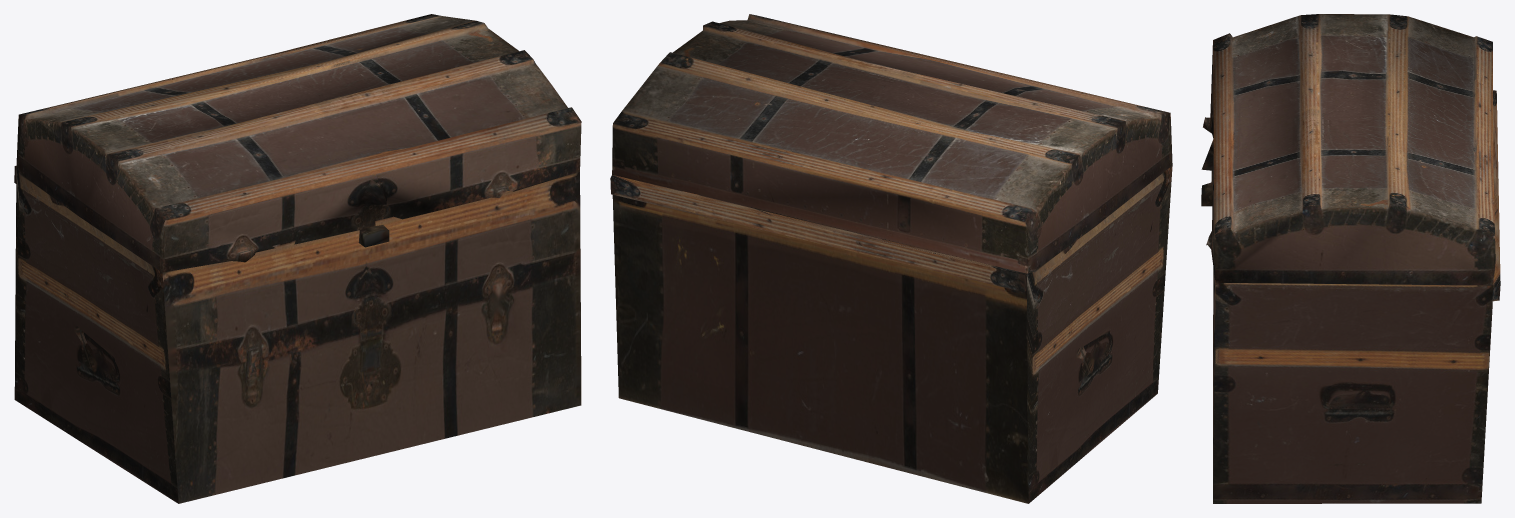
Rendered from chest.fbx.
3 views of the same model, side by side, from view 1: azimuth 30°, elevation 25°; view 2: azimuth 150°, elevation 25°; view 3: azimuth 270°, elevation 25° (orthographic). The views are drawn at different scales.
Parts seen in each view (by area): view 1: vigiaeoga_LOD0_TIER3_000, vigiaeoga_LOD0_TIER3_000.001; view 2: vigiaeoga_LOD0_TIER3_000, vigiaeoga_LOD0_TIER3_000.001; view 3: vigiaeoga_LOD0_TIER3_000.001, vigiaeoga_LOD0_TIER3_000.
Boxes of the visible parts, box(x1,y1,x2,y2) form: vigiaeoga_LOD0_TIER3_000: box(14, 166, 581, 503); vigiaeoga_LOD0_TIER3_000.001: box(16, 14, 581, 272); vigiaeoga_LOD0_TIER3_000: box(610, 165, 1172, 503); vigiaeoga_LOD0_TIER3_000.001: box(612, 14, 1172, 273); vigiaeoga_LOD0_TIER3_000.001: box(1201, 14, 1495, 285); vigiaeoga_LOD0_TIER3_000: box(1201, 90, 1500, 503).
Bounding box in the file's own units: 67.6 × 48.33 × 43.77.
Materials: 1 (1 with a texture image).
